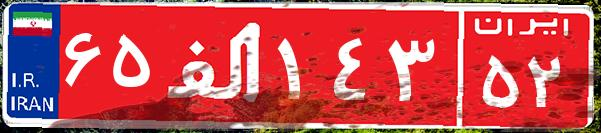1: (273, 28, 330, 110)
2: (525, 38, 570, 115)
3: (385, 28, 445, 110)
4: (330, 28, 385, 110)
5: (475, 38, 525, 113), (110, 28, 158, 105)
6: (57, 26, 110, 107)
الف: (158, 15, 273, 115)
